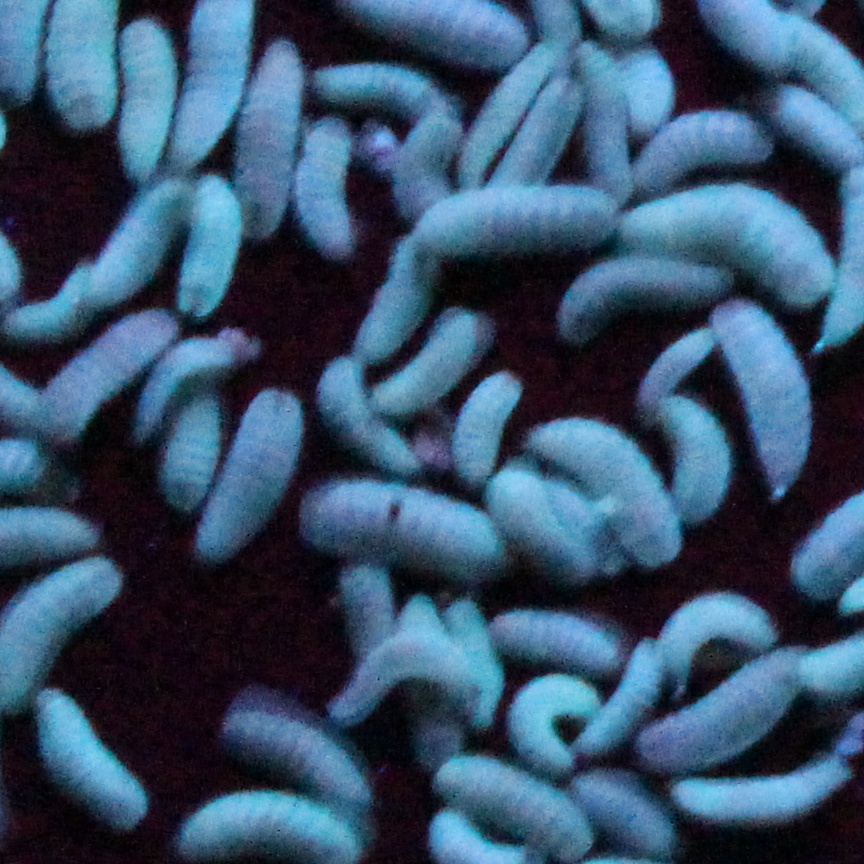larve: (187, 390, 321, 566), (294, 483, 505, 587), (640, 651, 822, 766), (538, 423, 678, 558), (47, 307, 182, 445), (716, 311, 816, 497), (629, 183, 831, 270), (321, 620, 488, 717), (35, 697, 149, 832), (446, 760, 589, 863), (236, 40, 305, 244), (559, 257, 725, 341), (226, 710, 366, 809), (78, 183, 185, 304), (430, 185, 617, 251), (650, 595, 773, 692), (461, 53, 549, 185), (160, 386, 246, 513), (641, 110, 765, 187), (497, 81, 587, 186), (297, 113, 362, 257), (488, 611, 622, 674), (317, 358, 395, 466), (358, 249, 439, 349), (579, 44, 630, 202), (318, 65, 454, 123), (667, 404, 734, 521), (591, 645, 666, 748), (574, 772, 678, 845), (178, 185, 239, 309), (669, 780, 849, 822), (123, 17, 167, 181), (461, 372, 525, 481), (508, 680, 587, 765), (409, 318, 477, 410), (396, 120, 459, 218), (639, 326, 714, 393)
